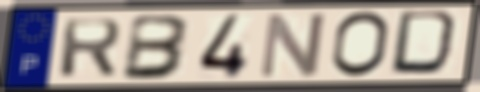4: (196, 12, 251, 81)
B: (119, 13, 194, 82)
D: (387, 9, 466, 78)
N: (255, 11, 330, 81)
O: (328, 9, 393, 80)
R: (57, 17, 125, 80)
